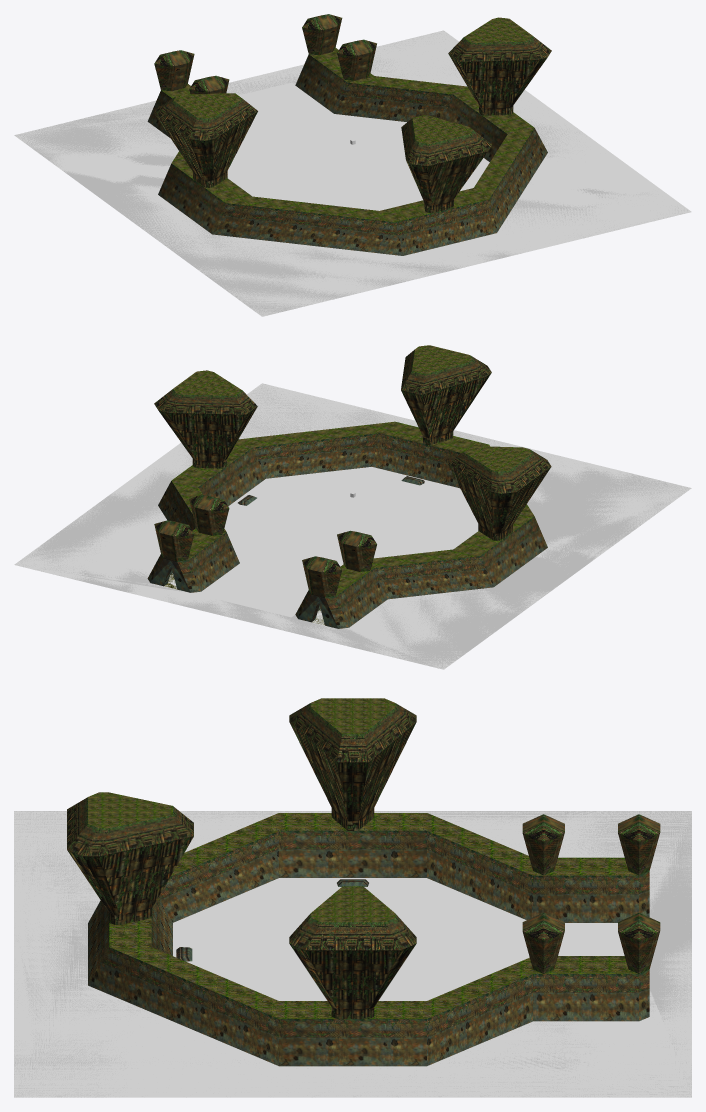
Rendered from mbdata00.FBX.
The picture shows the model from 3 angles, top to bottom: view 1: azimuth 30°, elevation 25°; view 2: azimuth 150°, elevation 25°; view 3: azimuth 270°, elevation 25°; orthographic projection. The views are drawn at different scales.
Parts seen in each view (by area): view 1: terrain__h, mbdata00, terrain, towers; view 2: terrain__h, mbdata00, terrain, towers; view 3: terrain__h, mbdata00, towers, terrain.
Boxes of the visible parts, left/top/right/bottom form: terrain__h: left=14, top=30, right=691, bottom=316; mbdata00: left=147, top=14, right=547, bottom=255; terrain: left=15, top=31, right=690, bottom=316; towers: left=154, top=17, right=551, bottom=213; terrain__h: left=14, top=383, right=691, bottom=669; mbdata00: left=147, top=421, right=547, bottom=628; terrain: left=15, top=383, right=690, bottom=669; towers: left=154, top=345, right=551, bottom=540; terrain__h: left=14, top=811, right=691, bottom=1097; mbdata00: left=88, top=813, right=660, bottom=1066; towers: left=67, top=698, right=416, bottom=1018; terrain: left=14, top=811, right=691, bottom=1097.
Bounding box in the file's own units: 128 × 128 × 47.
